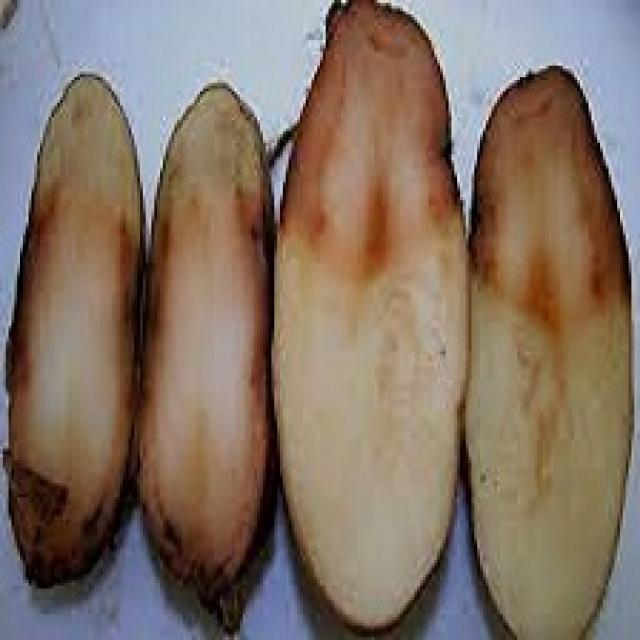pink_rot: (271, 0, 640, 640), (7, 52, 276, 626)
